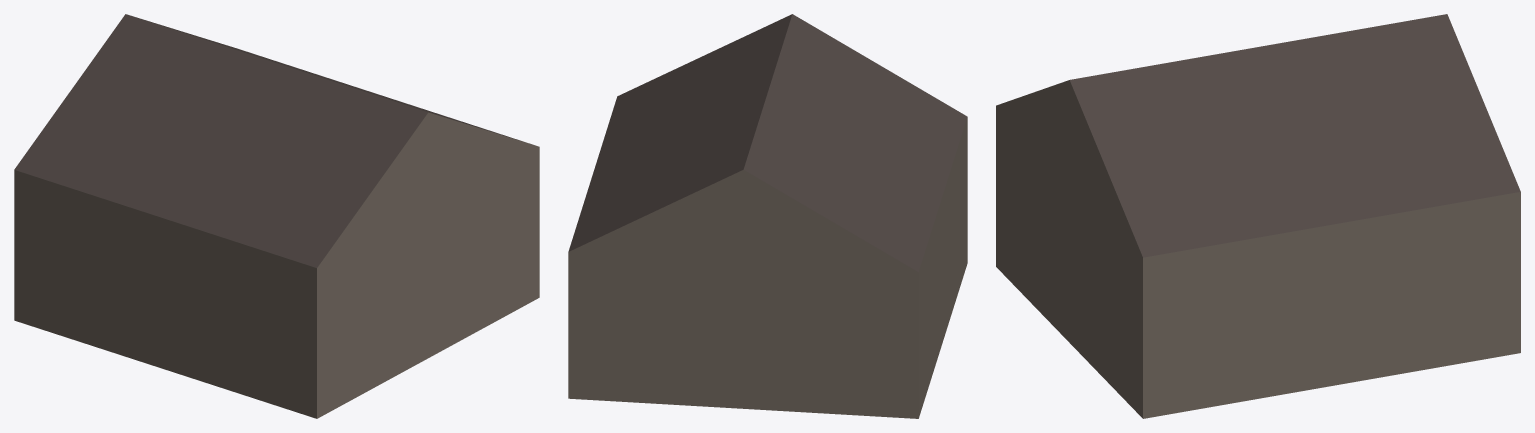
3 views of the same model, side by side, from view 1: azimuth 30°, elevation 25°; view 2: azimuth 150°, elevation 25°; view 3: azimuth 270°, elevation 25° (orthographic). The views are drawn at different scales.
Visible parts, largest first — view 1: HP-w859447921; view 2: HP-w859447921; view 3: HP-w859447921.
Part boxes in pixels (x1,y1,x2,y2): HP-w859447921: [14, 14, 539, 418]; HP-w859447921: [568, 14, 967, 418]; HP-w859447921: [996, 14, 1520, 418].
Bounding box in the file's own units: 17.4 × 9.79 × 17.7.
